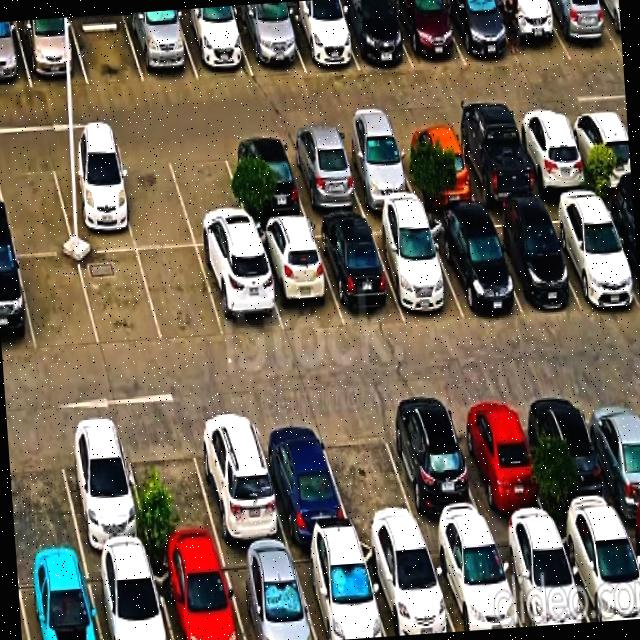empty: (316, 408, 421, 535), (121, 423, 221, 554), (7, 427, 82, 563), (166, 141, 252, 246), (112, 148, 195, 249), (137, 247, 224, 342), (78, 250, 162, 347), (17, 255, 99, 352), (0, 154, 74, 255), (70, 13, 144, 84)
occupied: (378, 401, 489, 536), (447, 396, 551, 529), (188, 411, 288, 548), (252, 413, 352, 542), (523, 391, 620, 523), (55, 423, 150, 556), (542, 198, 640, 307), (481, 208, 579, 314), (425, 213, 523, 319), (253, 223, 343, 334), (311, 219, 404, 326), (491, 527, 589, 627), (425, 531, 523, 631), (368, 217, 464, 319), (290, 541, 386, 640), (359, 539, 454, 636), (219, 548, 316, 640), (556, 518, 640, 622), (50, 151, 136, 252), (151, 551, 244, 640), (197, 244, 283, 337), (579, 388, 640, 517), (450, 120, 538, 205), (222, 137, 307, 224), (85, 555, 172, 640), (282, 134, 365, 217), (335, 130, 419, 211), (16, 560, 101, 640), (393, 125, 478, 204), (512, 113, 593, 195), (334, 0, 413, 70), (123, 9, 198, 82), (175, 9, 253, 79), (281, 3, 358, 72), (565, 110, 631, 189), (491, 0, 570, 66), (390, 0, 465, 69), (15, 17, 87, 88), (442, 0, 518, 66), (541, 0, 622, 60), (233, 7, 304, 75), (600, 196, 639, 296), (0, 253, 35, 355), (0, 21, 31, 89), (595, 0, 622, 56), (620, 516, 640, 572)
